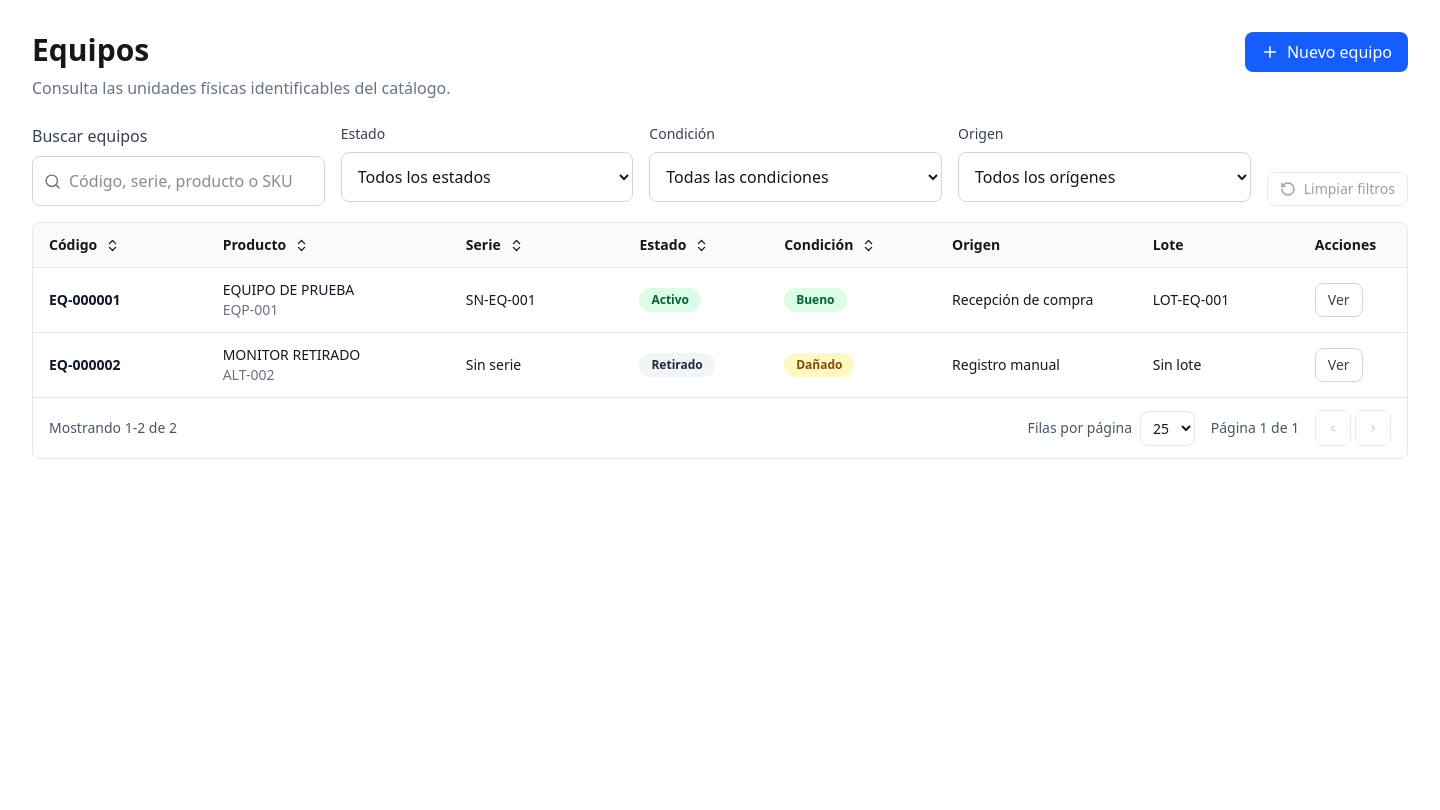
Scenario: EquipmentPage › evita doble envío y conserva valores ante un serial duplicado
Expected: the text "EQ-000001" is shown, [49,290,120,309]
Click the button "Nuevo equipo". click: point(1326, 52)
box: [1245,32,1408,72]
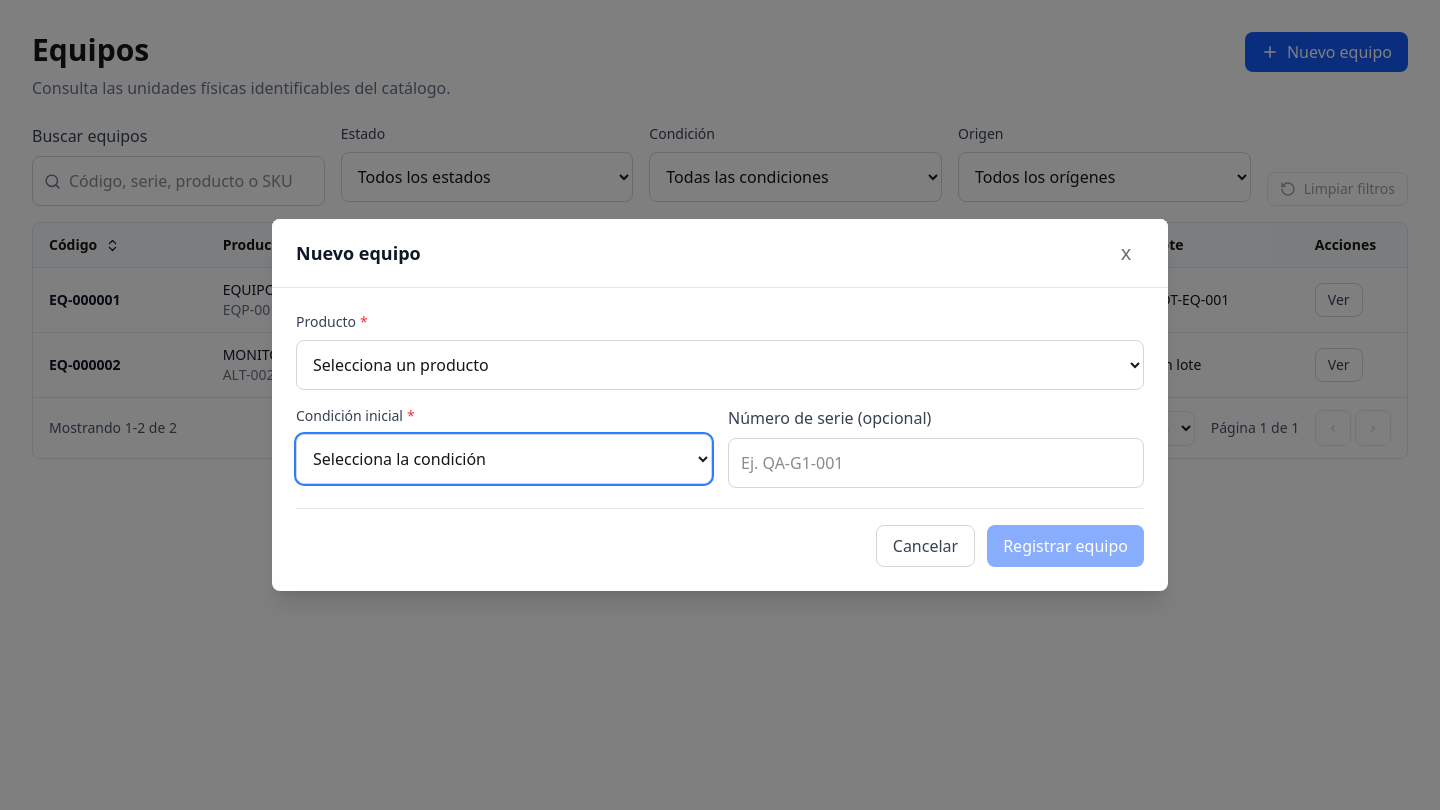
Select "EQUIPO DE PRUEBA · EQP-001" in the dropdown labelled "Producto*". click: point(720, 365)
box: [296,340,1144,390]
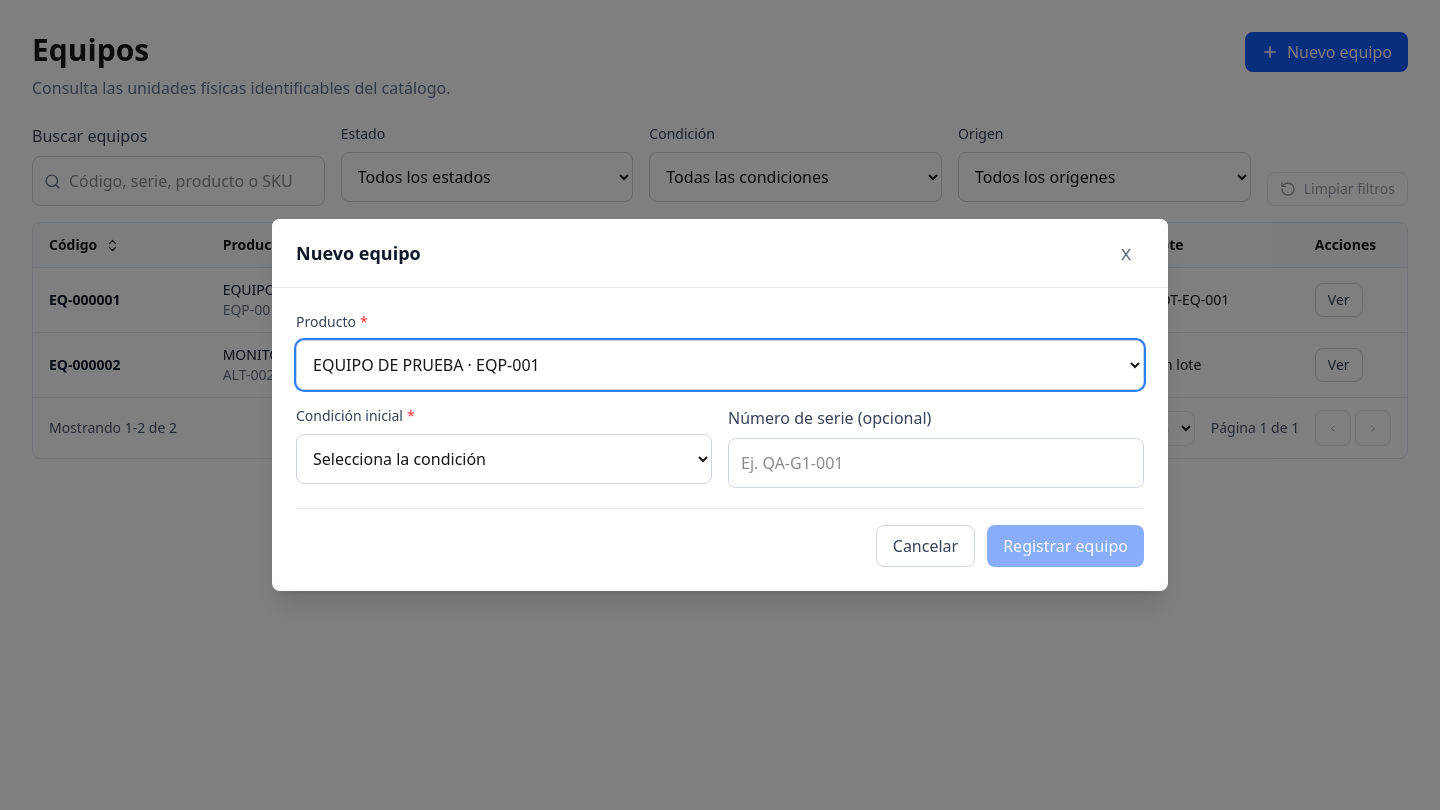
Select "Bueno" in the dropdown labelled "Condición inicial*". click: point(504, 459)
box: [296,434,712,484]
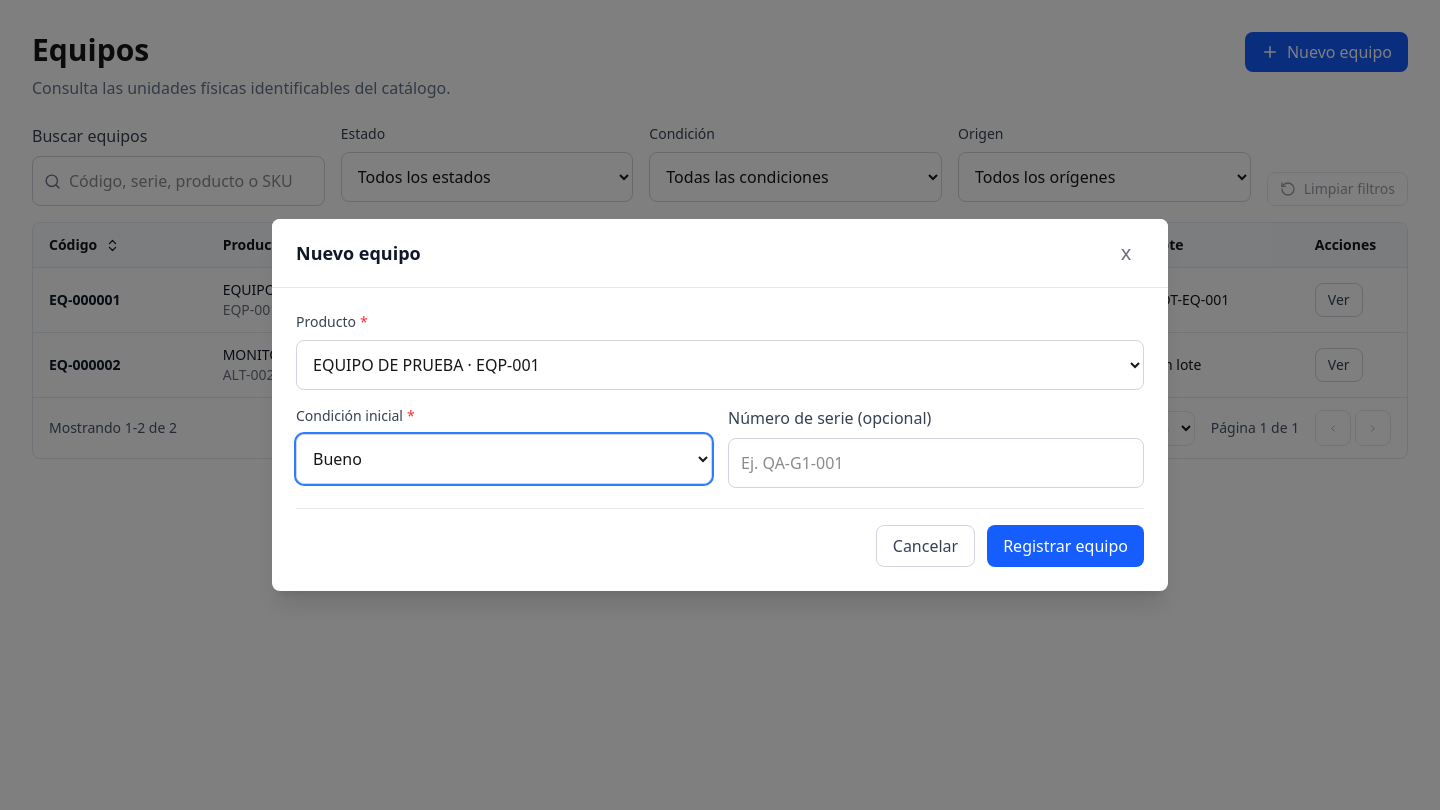
Type "DUPLICADA-001" into the field labelled "Número de serie (opcional)". click: point(936, 463)
box: [728,438,1144,488]
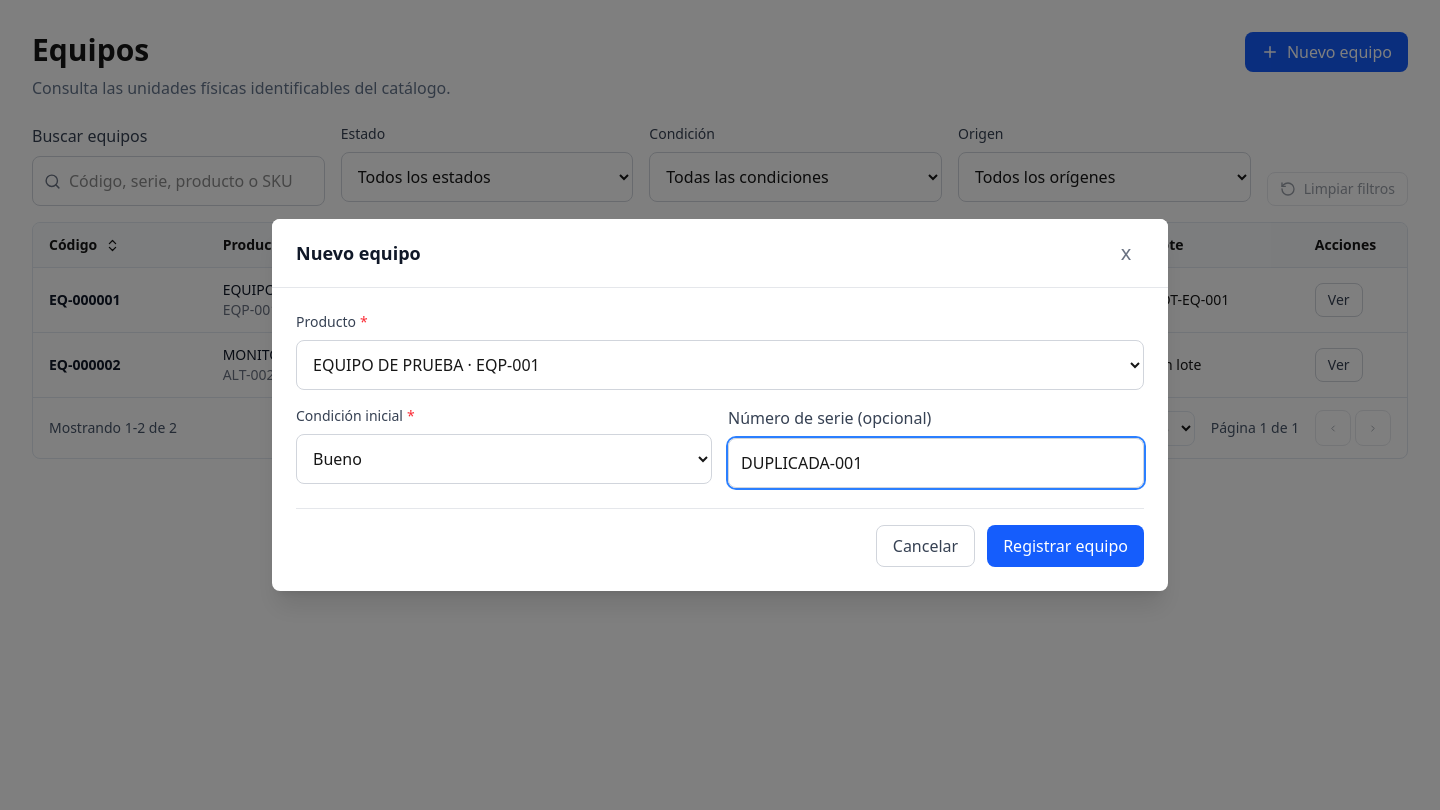
Click the button "Registrar equipo". click: point(1066, 546)
box: [987,525,1144,567]
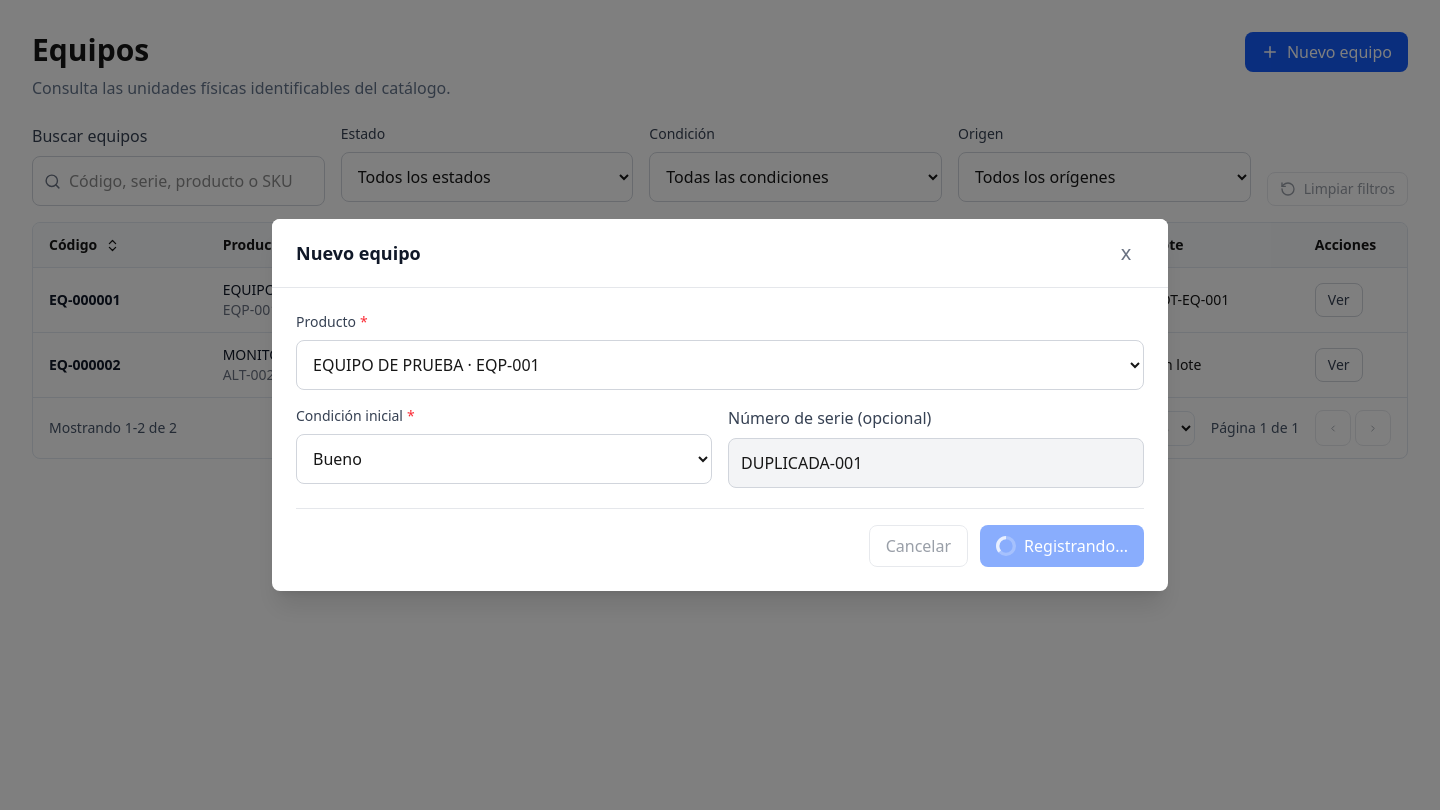
Click the button named "Registrar equipo". click: point(1062, 546)
box: [980,525,1144,567]
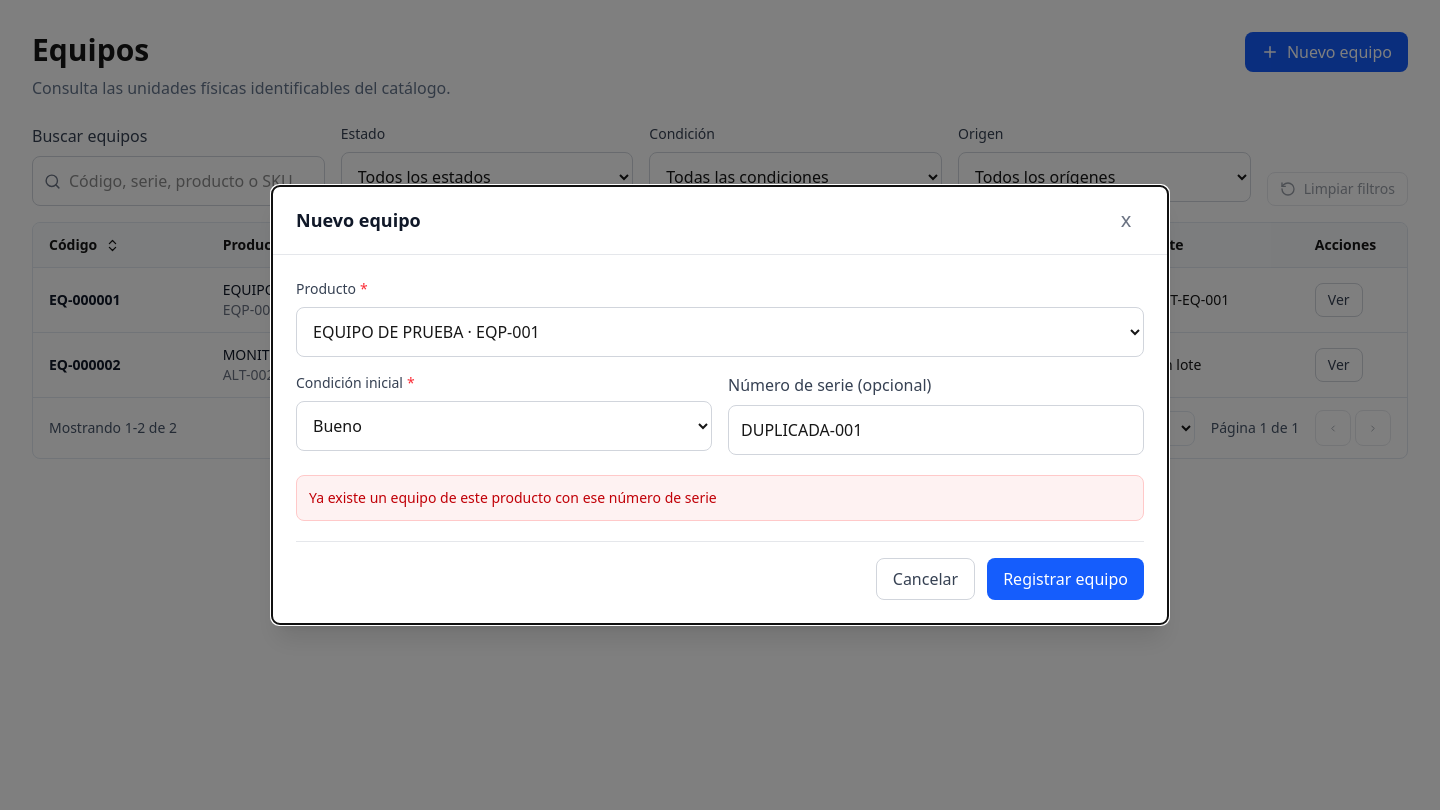
Expected: the text "EQ-000001" is shown, [49,290,120,309]
Result: the text "Ya existe un equipo de este producto con ese número de serie" is shown at [296,475,1144,521]
Result: the button "Registrar equipo" is enabled at [987,558,1144,600]
